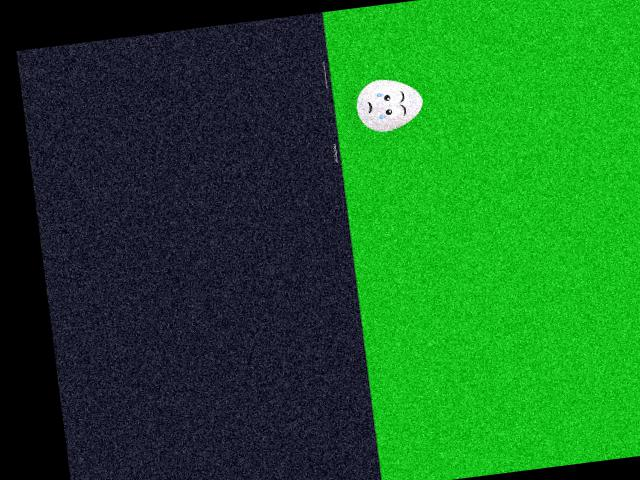egg: (353, 74, 425, 134)
